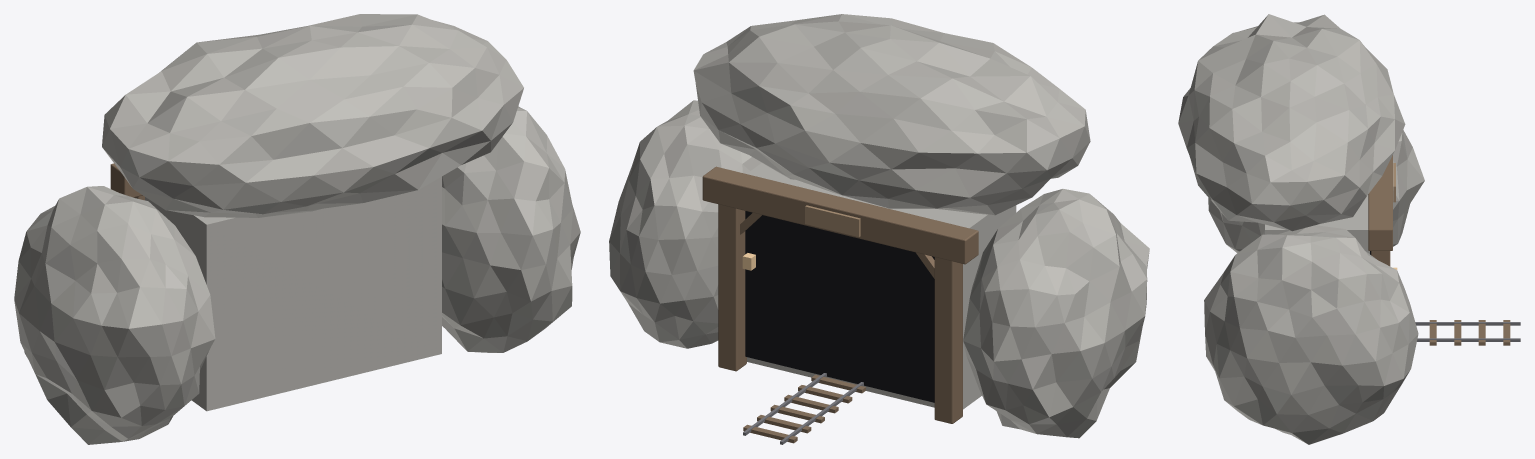
Rendered from mine_entrance.glb.
3 renders of one model, left to right at view 1: azimuth 30°, elevation 25°; view 2: azimuth 150°, elevation 25°; view 3: azimuth 270°, elevation 25°, orthographic. The views are drawn at different scales.
Visible parts, largest first — view 1: mine_entrance; view 2: mine_entrance; view 3: mine_entrance.
Boxes of the visible parts, <box> form: mine_entrance: <box>14,14,580,444</box>; mine_entrance: <box>609,14,1149,444</box>; mine_entrance: <box>1178,14,1520,444</box>.
Size of the model in its own units: 14.57 by 9.72 by 9.78.
